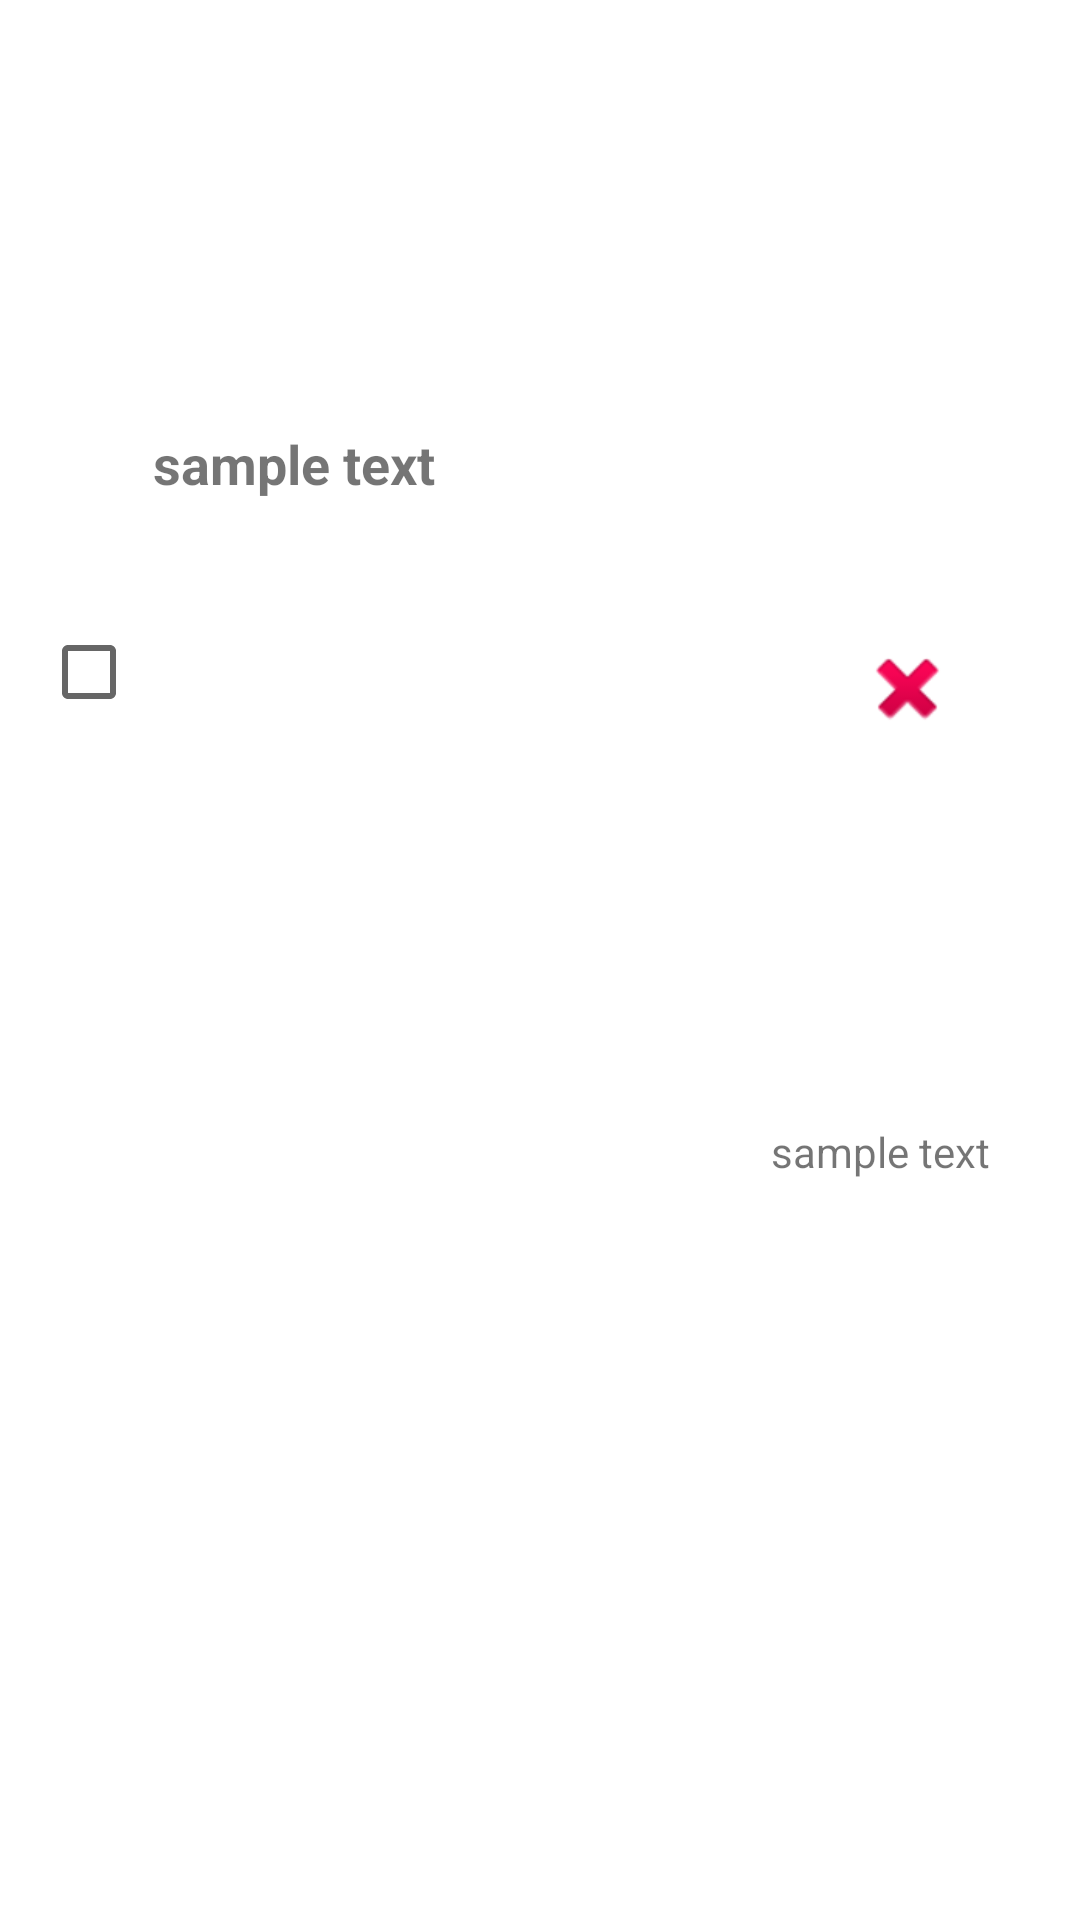

Named icons in this screenshot (1080 x 1920) and their centers, (x=x, y=y):
delete: (x=907, y=688)
